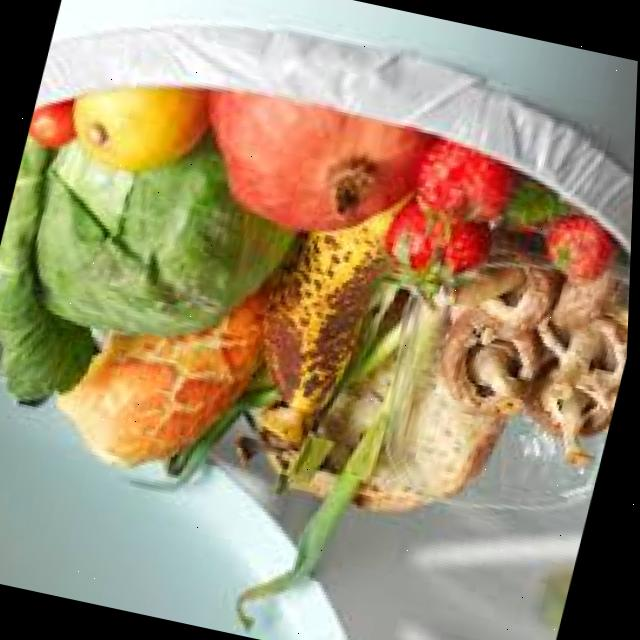Wet: (0, 0, 640, 640), (0, 116, 309, 381), (34, 269, 304, 534), (383, 123, 528, 325)
